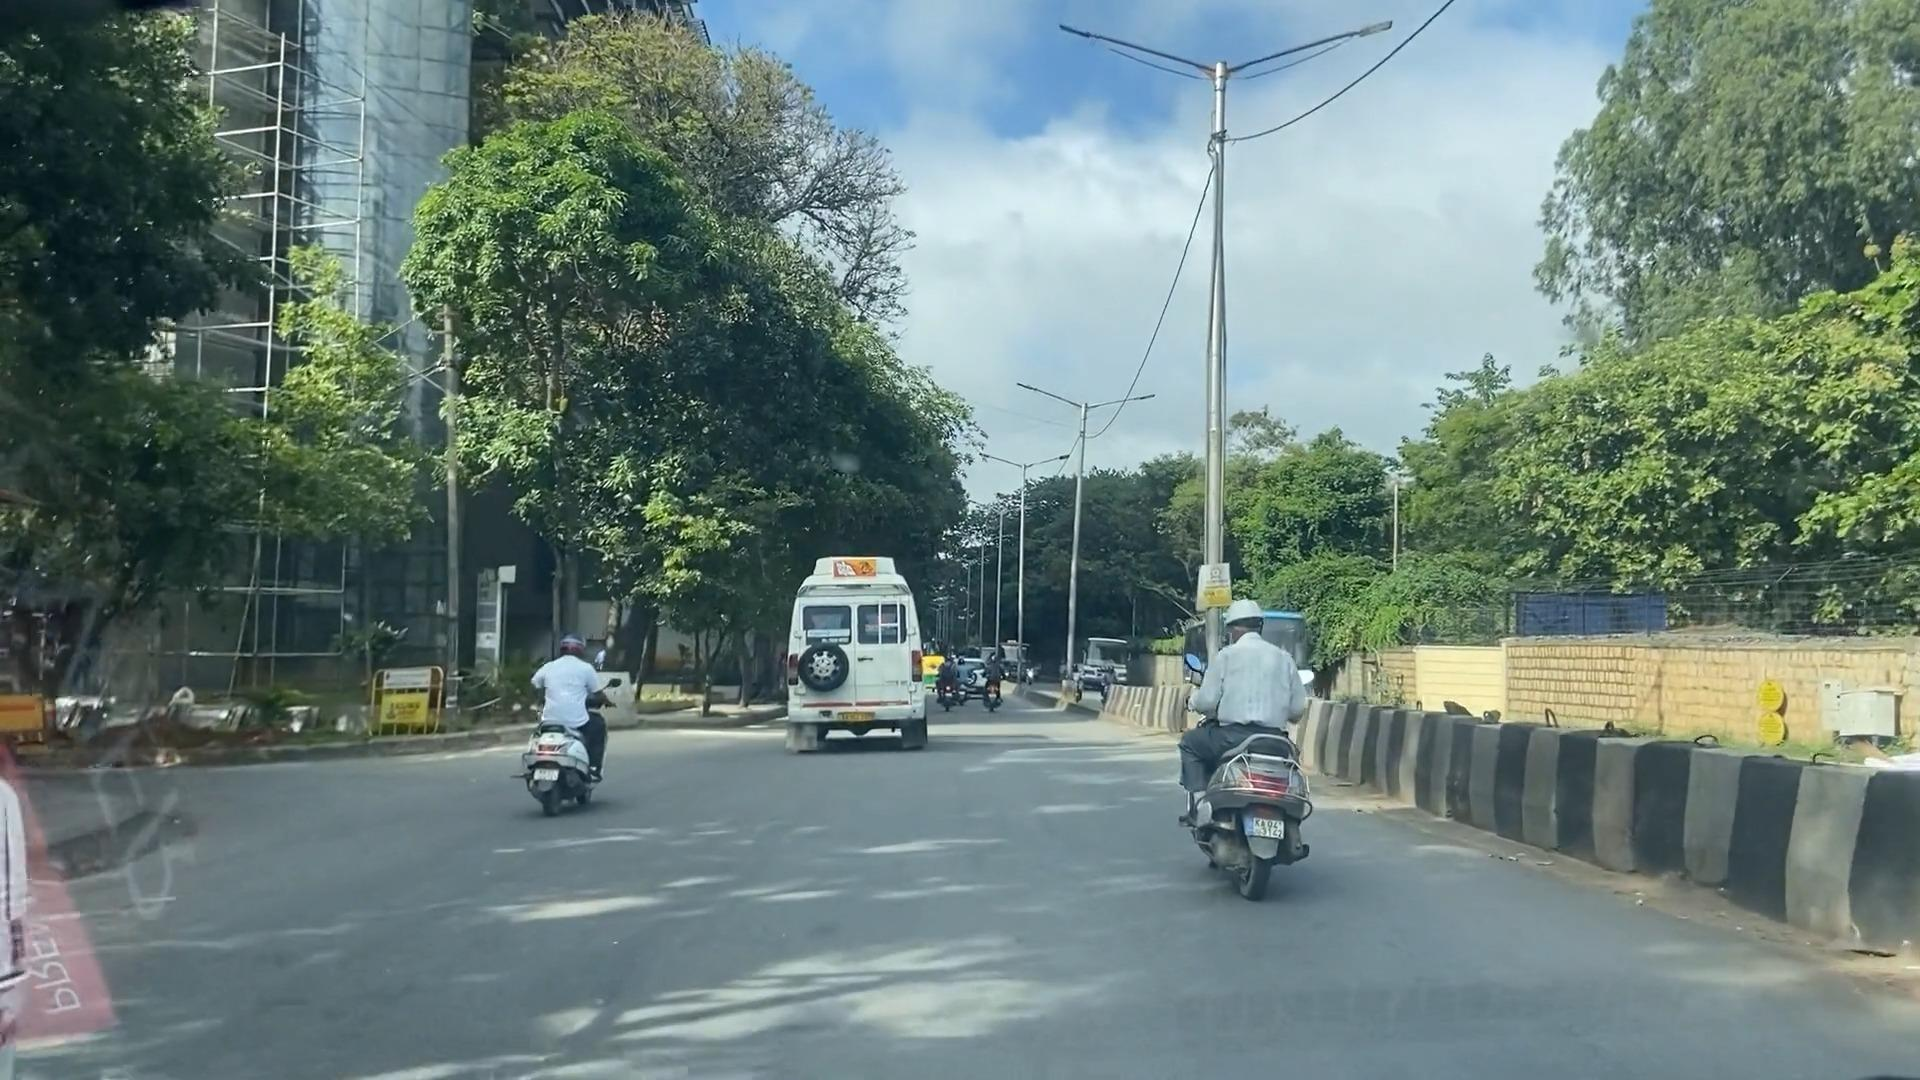HMV: (815, 498, 942, 770)
LMV: (1153, 597, 1340, 901), (505, 621, 624, 843)
